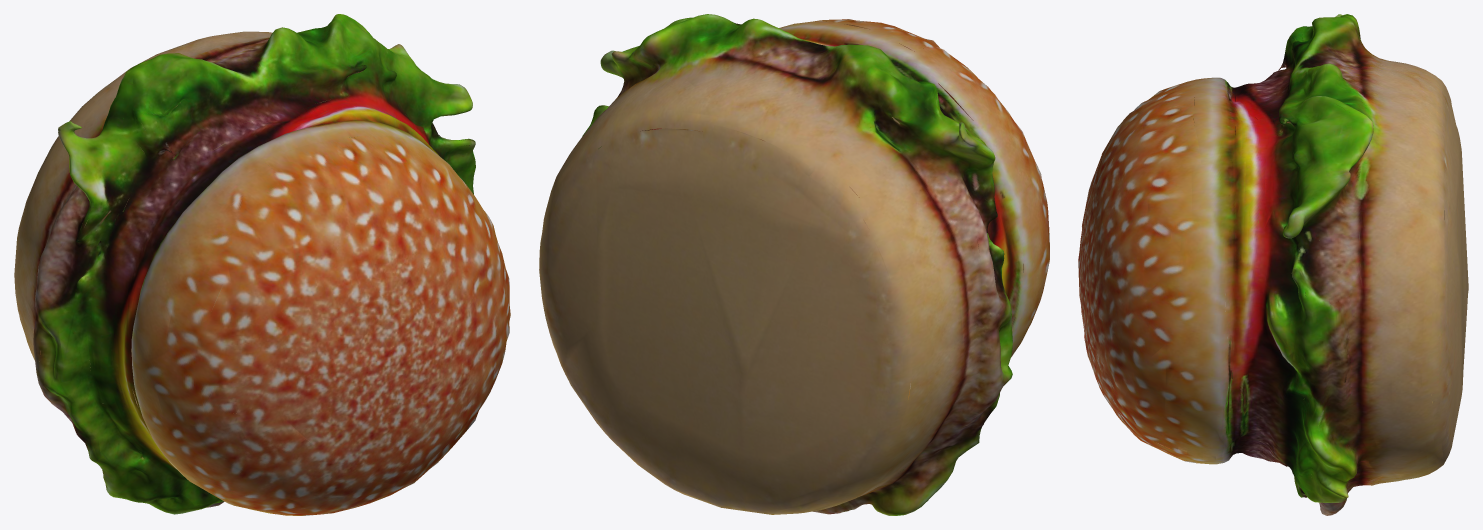
3 renders of one model, left to right at view 1: azimuth 30°, elevation 25°; view 2: azimuth 150°, elevation 25°; view 3: azimuth 270°, elevation 25°, orthographic. The views are drawn at different scales.
Parts seen in each view (by area): view 1: mesh_base_material_0; view 2: mesh_base_material_0; view 3: mesh_base_material_0.
Part boxes in pixels (bbox=[...]): mesh_base_material_0: bbox=[14, 14, 510, 515]; mesh_base_material_0: bbox=[539, 14, 1049, 515]; mesh_base_material_0: bbox=[1078, 14, 1468, 515].
Bounding box in the file's own units: 0.0493 × 0.051 × 0.0412.
Materials: 1 (1 with a texture image).
